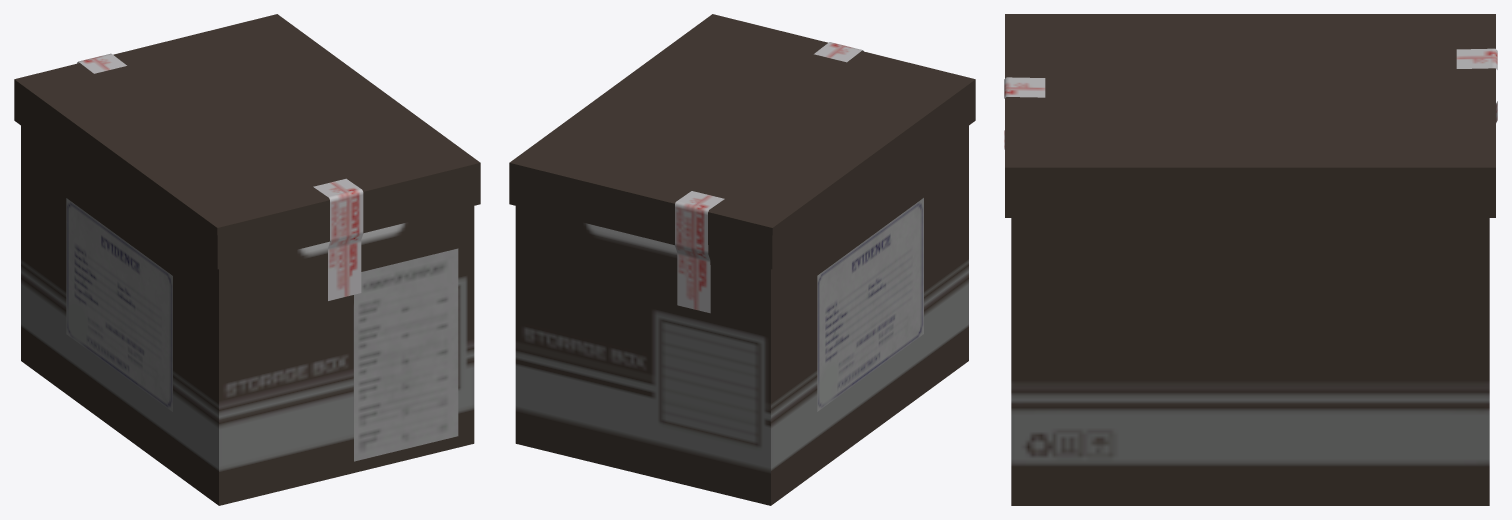
Rendered from FBX_BoxPortableJ.fbx.
3 renders of one model, left to right at view 1: azimuth 30°, elevation 25°; view 2: azimuth 150°, elevation 25°; view 3: azimuth 270°, elevation 25°, orthographic. The views are drawn at different scales.
Parts seen in each view (by area): view 1: SM_BoxPortableJ; view 2: SM_BoxPortableJ; view 3: SM_BoxPortableJ.
Boxes of the visible parts, <box> form: SM_BoxPortableJ: <box>14,14,480,505</box>; SM_BoxPortableJ: <box>509,14,975,505</box>; SM_BoxPortableJ: <box>1004,14,1497,505</box>.
Bounding box in the file's own units: 0.2992 × 0.3074 × 0.4022.
